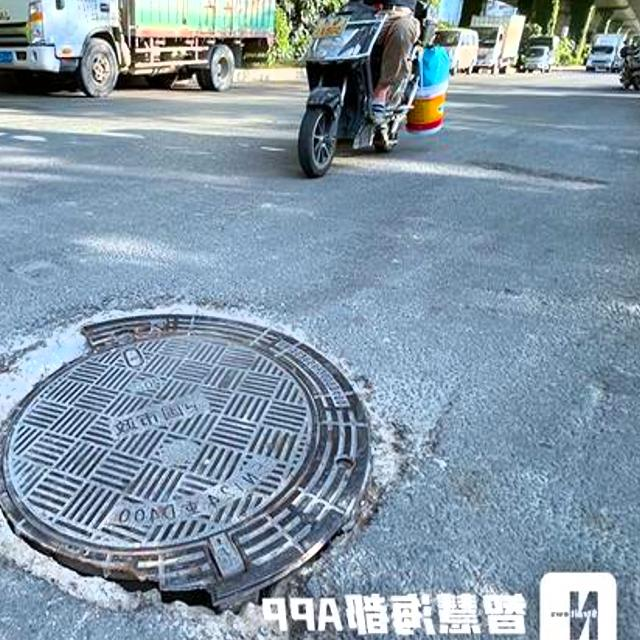circle: (0, 263, 454, 640)
